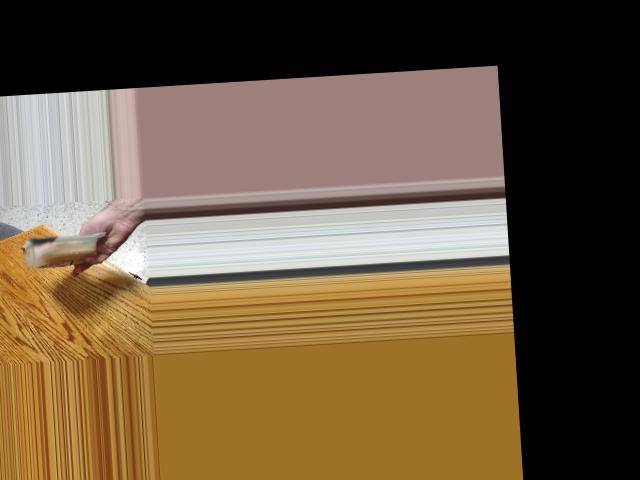cheese: (26, 217, 102, 271)
